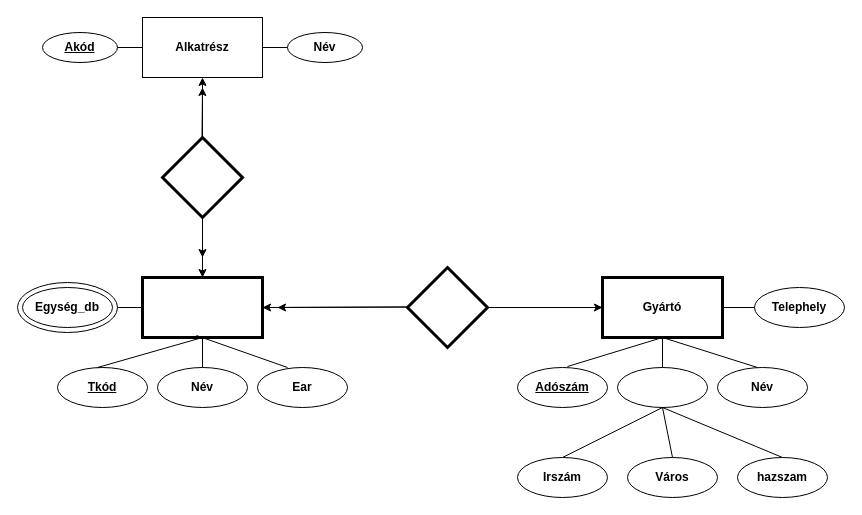
The diagram is 862 pixels wide and 515 high, and some of its shapes have lost their labels. Each missing label, with the centre of its shape:
"Postacím" belongs at (662,387).
"T-GY" belongs at (447,307).
"T_A" belongs at (202,177).
"Termék" belongs at (202,307).
